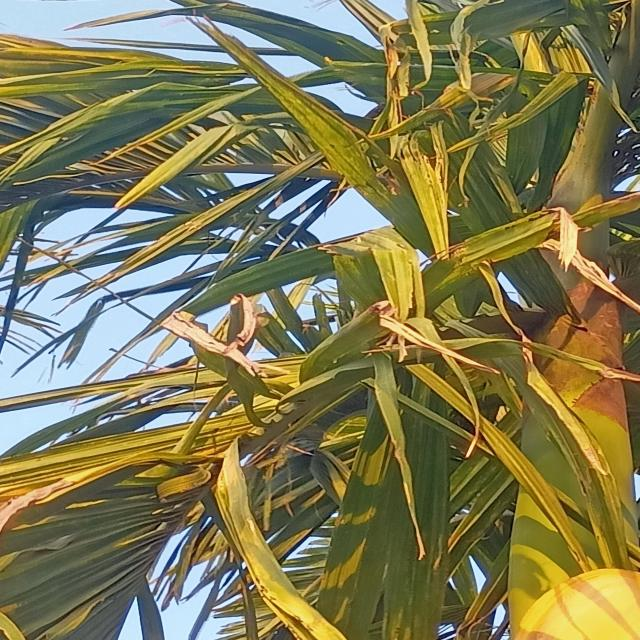Yellow_Leaf_Disease: (72, 74, 456, 512)
